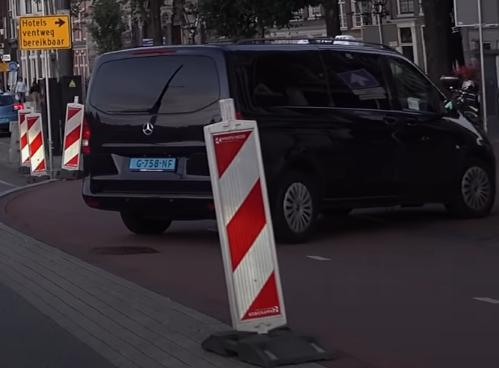license-plate: (129, 158, 176, 171)
